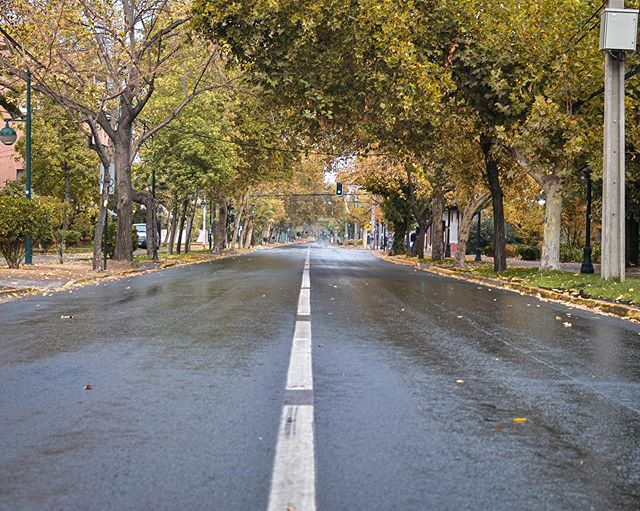street: (1, 257, 631, 511)
vegetation: (1, 1, 605, 255)
